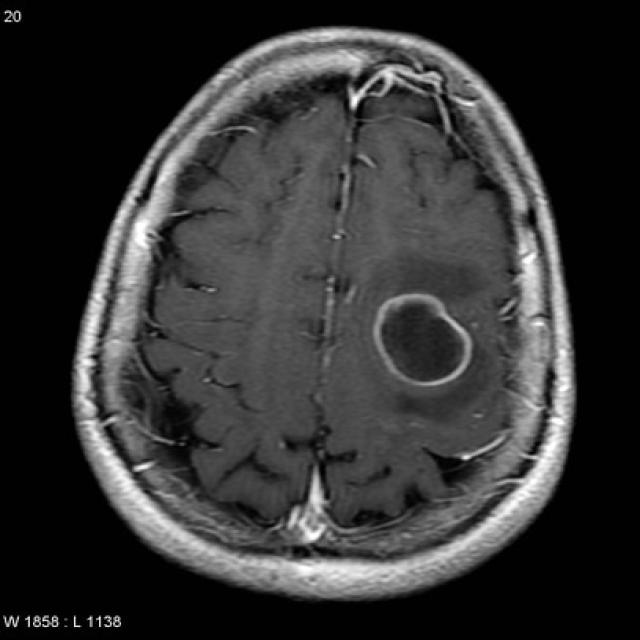Tumor: (378, 290, 473, 386)
